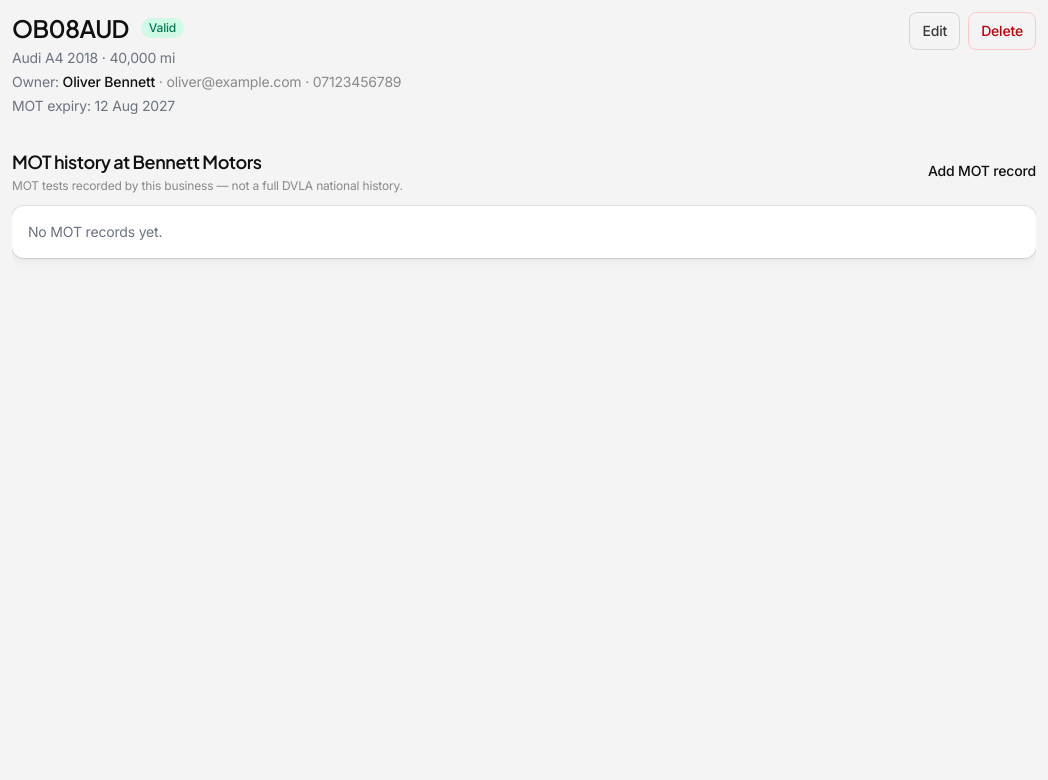
VehicleDetail — adding an MOT record › shows a form-level message for a server failure
Expected: the heading "OB08AUD" is shown, top-left (12, 12), bottom-right (129, 44)
Click the button "Add MOT record". click: (982, 171)
box: top-left (928, 161), bottom-right (1036, 181)
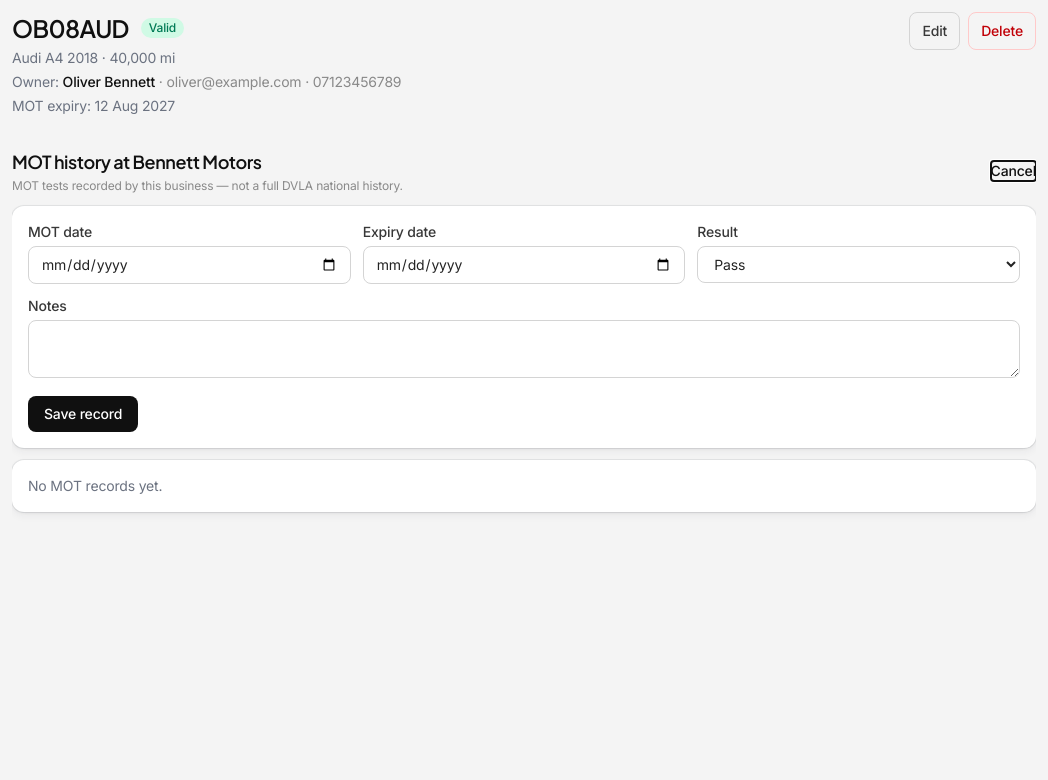
Type "2026-06-01" into the date field labelled "MOT date". click: (189, 265)
box: top-left (28, 246), bottom-right (351, 284)
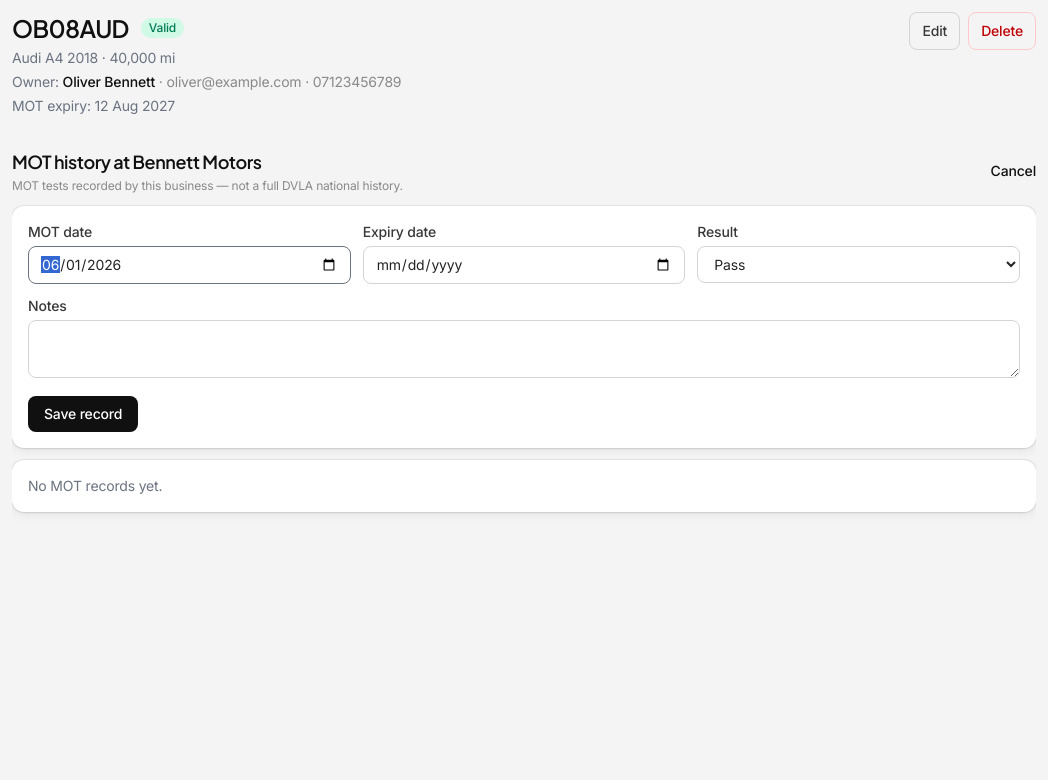
Type "2027-06-01" into the date field labelled "Expiry date". click: (524, 265)
box: top-left (363, 246), bottom-right (685, 284)
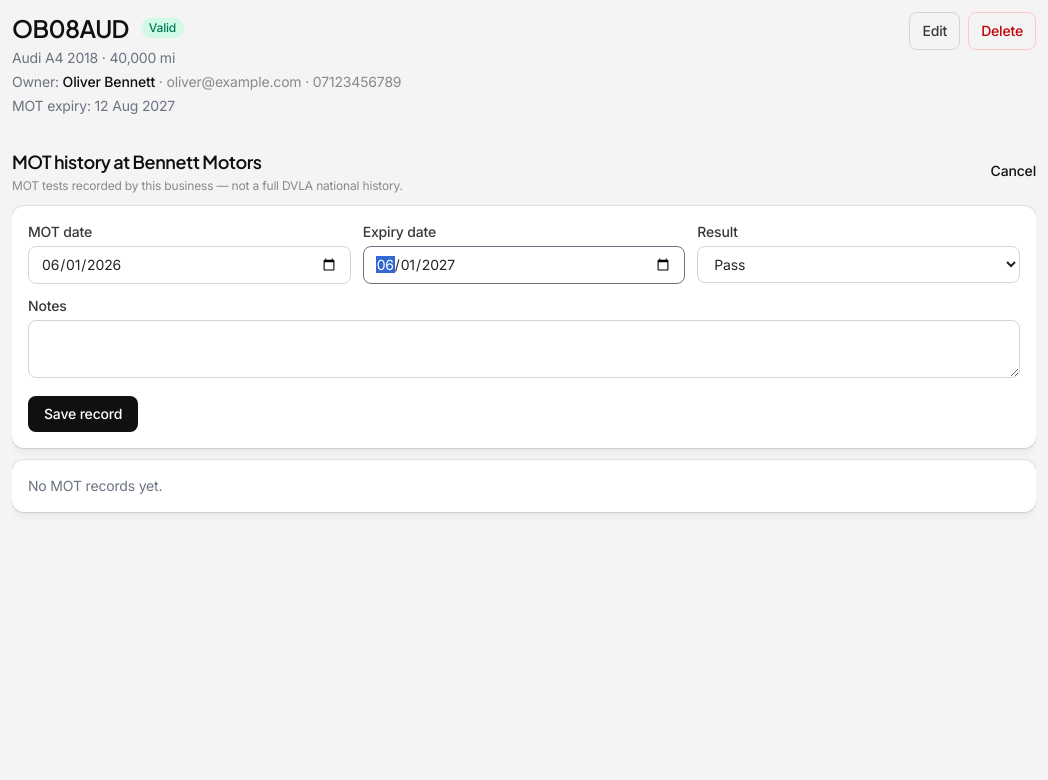
Click the button "Save record". click: (83, 414)
box: top-left (28, 396), bottom-right (138, 432)
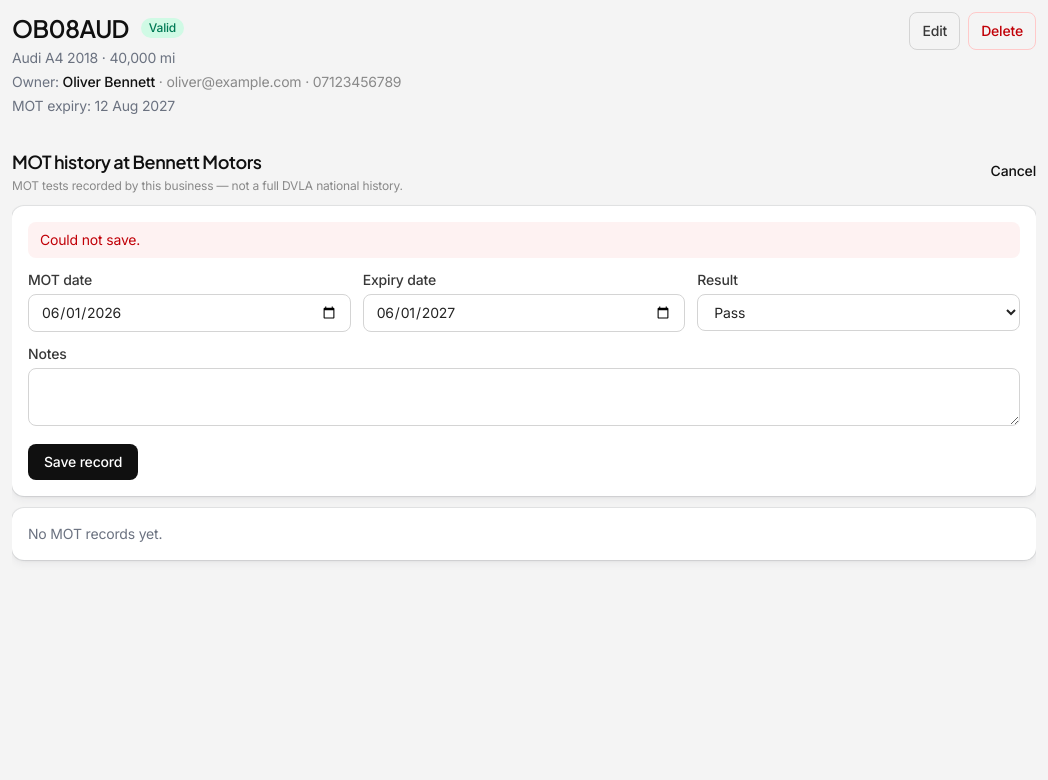
Result: the text "Could not save." is shown at top-left (28, 222), bottom-right (1020, 258)
